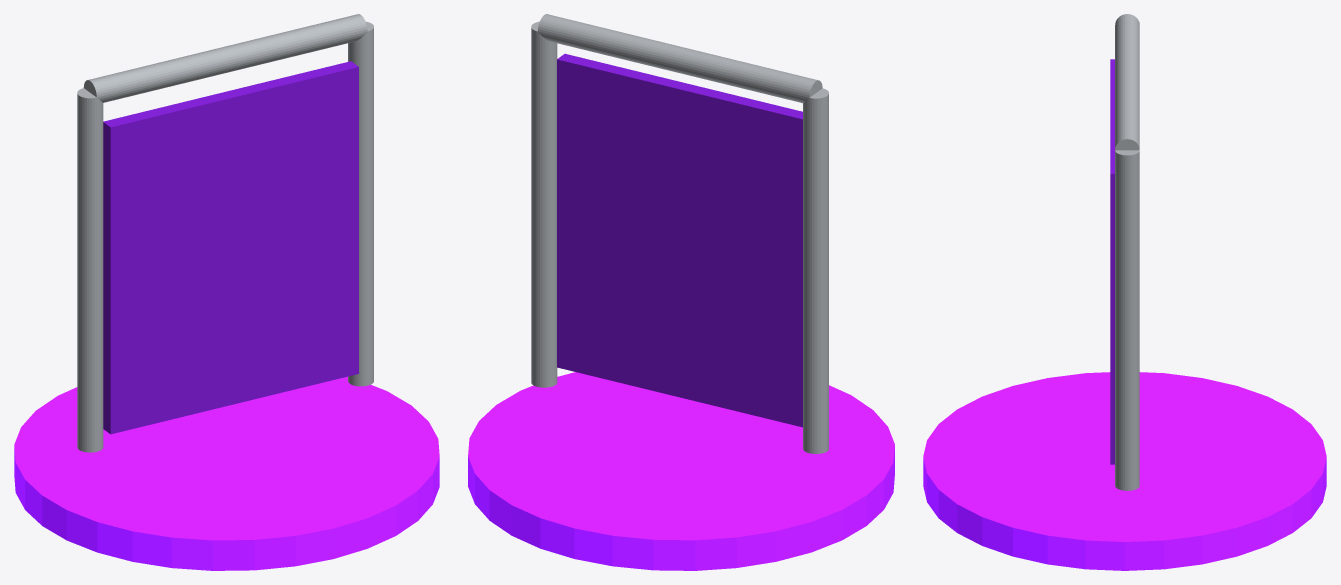
Rendered from modelling_backdrop.dae.
3 renders of one model, left to right at view 1: azimuth 30°, elevation 25°; view 2: azimuth 150°, elevation 25°; view 3: azimuth 270°, elevation 25°, orthographic. The views are drawn at different scales.
Visible parts, largest first — view 1: 05_19_Popular_Modelling_Backdrop_part_04, 05_19_Popular_Modelling_Backdrop_ROOT_base, 05_19_Popular_Modelling_Backdrop_part_01, 05_19_Popular_Modelling_Backdrop_part_03, 05_19_Popular_Modelling_Backdrop_part_02; view 2: 05_19_Popular_Modelling_Backdrop_part_04, 05_19_Popular_Modelling_Backdrop_ROOT_base, 05_19_Popular_Modelling_Backdrop_part_01, 05_19_Popular_Modelling_Backdrop_part_02, 05_19_Popular_Modelling_Backdrop_part_03; view 3: 05_19_Popular_Modelling_Backdrop_ROOT_base, 05_19_Popular_Modelling_Backdrop_part_02, 05_19_Popular_Modelling_Backdrop_part_03, 05_19_Popular_Modelling_Backdrop_part_04.
Part boxes in pixels (box(x1,y1,x2,y2)): 05_19_Popular_Modelling_Backdrop_part_04: box(103, 61, 358, 434); 05_19_Popular_Modelling_Backdrop_ROOT_base: box(14, 376, 439, 570); 05_19_Popular_Modelling_Backdrop_part_01: box(77, 88, 103, 452); 05_19_Popular_Modelling_Backdrop_part_03: box(83, 14, 367, 102); 05_19_Popular_Modelling_Backdrop_part_02: box(348, 21, 373, 386); 05_19_Popular_Modelling_Backdrop_part_04: box(557, 53, 802, 427); 05_19_Popular_Modelling_Backdrop_ROOT_base: box(468, 372, 894, 570); 05_19_Popular_Modelling_Backdrop_part_01: box(803, 88, 828, 453); 05_19_Popular_Modelling_Backdrop_part_02: box(531, 21, 557, 387); 05_19_Popular_Modelling_Backdrop_part_03: box(537, 14, 822, 103); 05_19_Popular_Modelling_Backdrop_ROOT_base: box(923, 372, 1326, 570); 05_19_Popular_Modelling_Backdrop_part_02: box(1115, 150, 1139, 490); 05_19_Popular_Modelling_Backdrop_part_03: box(1115, 14, 1139, 150); 05_19_Popular_Modelling_Backdrop_part_04: box(1110, 59, 1114, 464).
Size of the model in its own units: 0.76 by 0.85 by 0.76.
